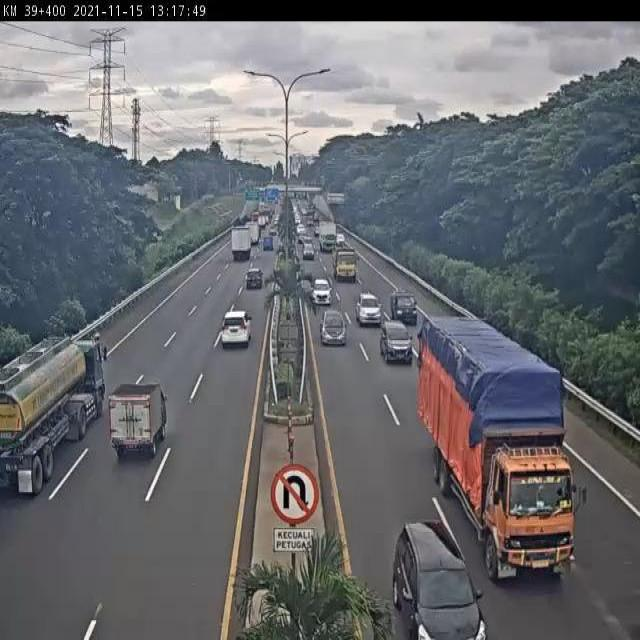car: (391, 516, 489, 640), (378, 318, 415, 366), (217, 305, 253, 347), (319, 306, 349, 346), (356, 292, 383, 325), (311, 274, 333, 306), (244, 264, 265, 292)
small truck: (108, 382, 169, 458)
truck-l-: (418, 316, 576, 585)
truck-m-: (332, 247, 359, 280)
truck-s-: (389, 288, 417, 325)
truck-xl-: (0, 332, 106, 497), (232, 226, 253, 262)
